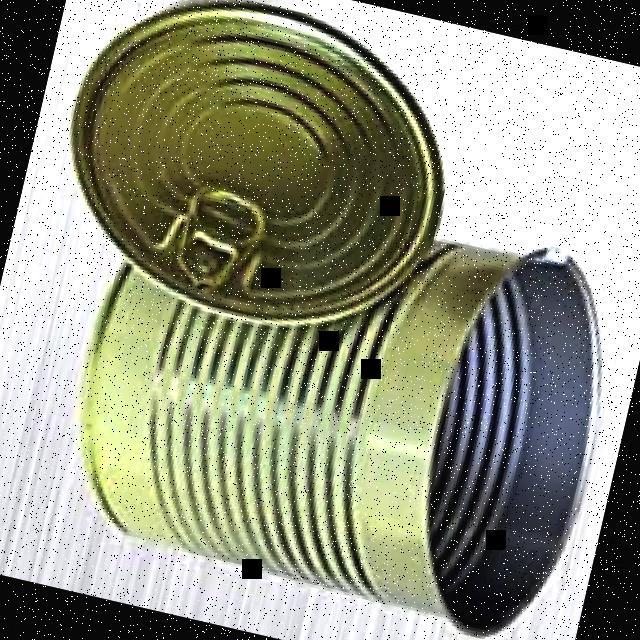can: (42, 149, 639, 640), (34, 0, 484, 366)
